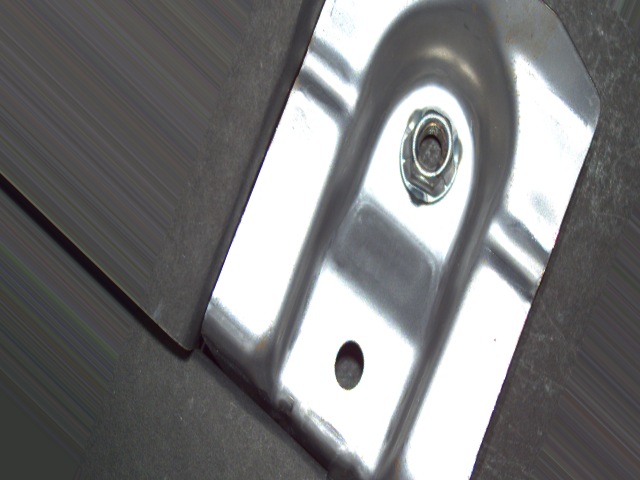good: (397, 102, 465, 209)
